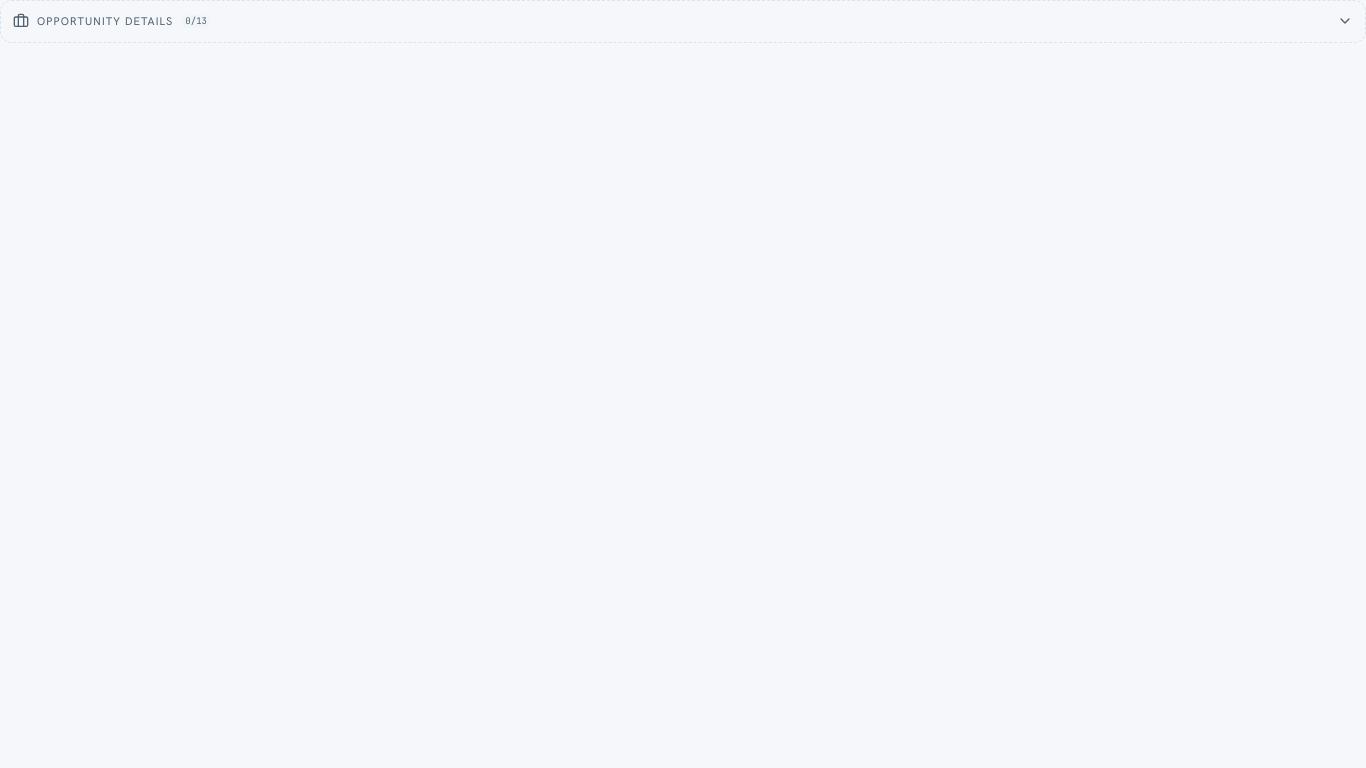
Test: Opportunity Details on a meeting › lists GHL's opportunity fields in GHL's order and loads saved values
Step 1. Click the button "Opportunity Details 0/13" → click(105, 21), box x1=13 y1=13 x2=1353 y2=30
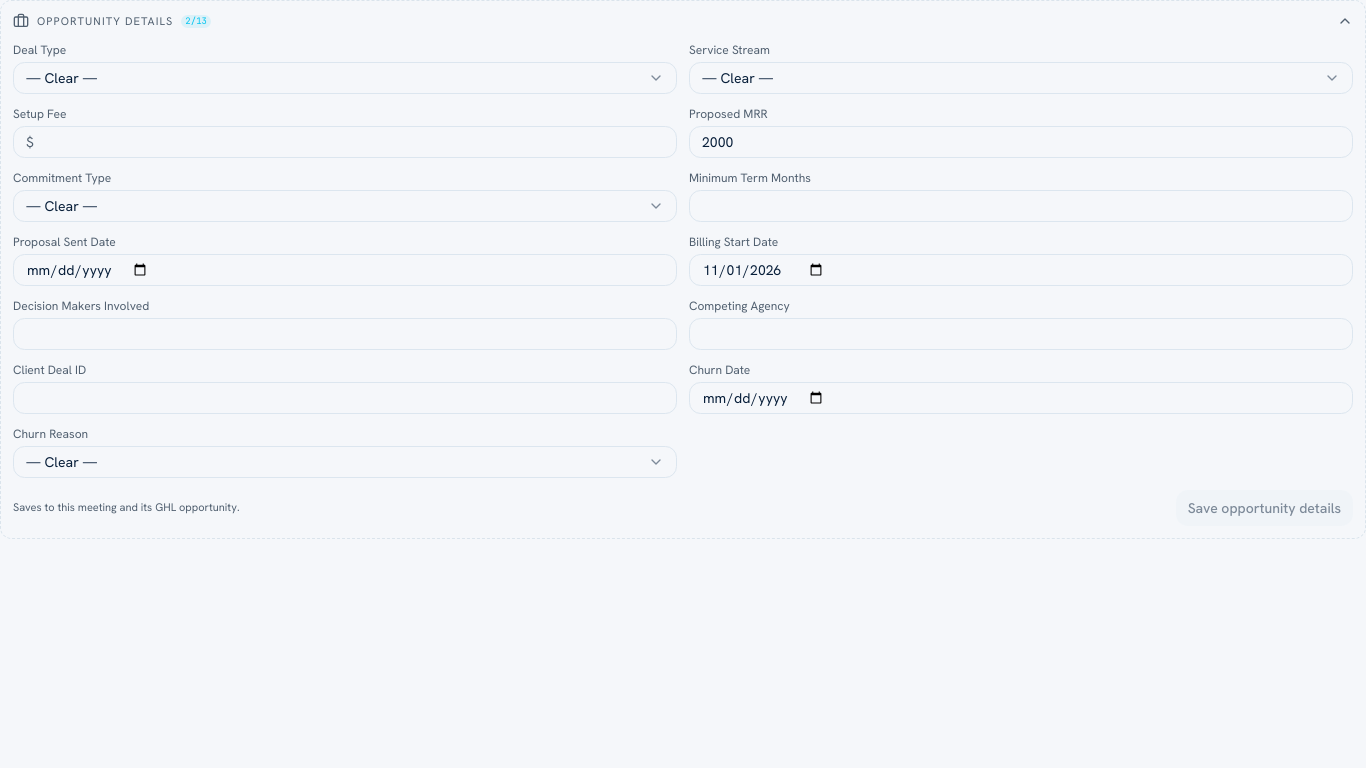
Expected: the number field showing "2000" is shown, x1=689 y1=126 x2=1353 y2=158
Expected: the date field showing "2026-11-01" is shown, x1=689 y1=254 x2=1353 y2=286
